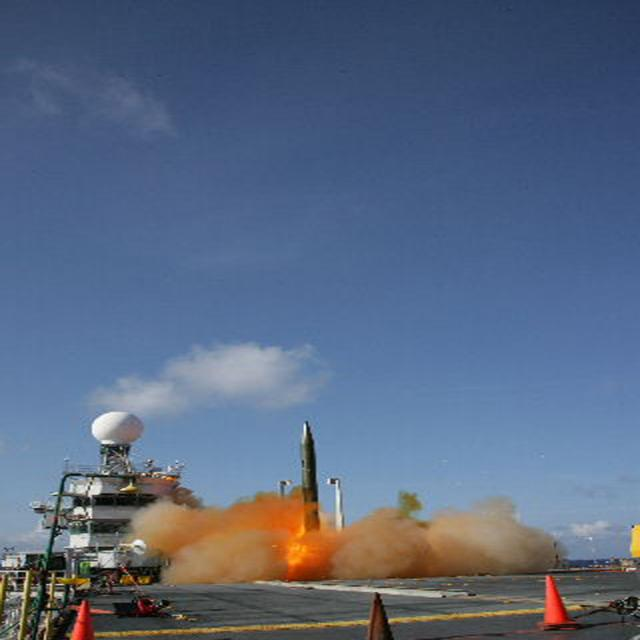rocket: (270, 419, 340, 570)
